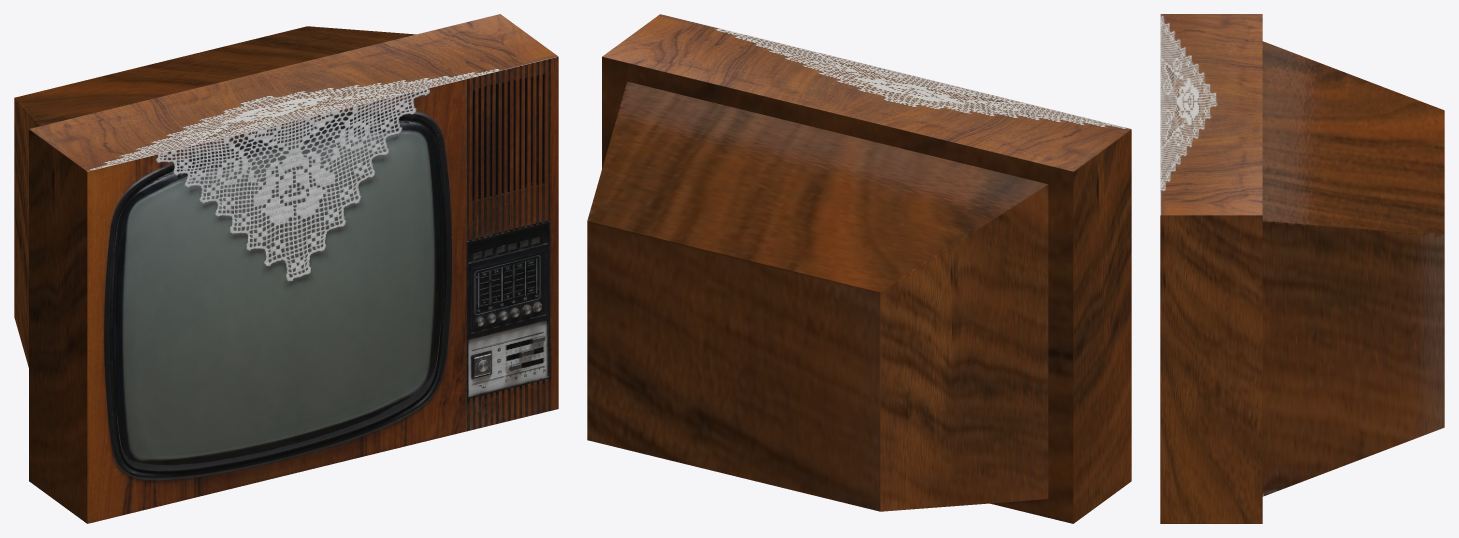
The model's file is old_tv_usssr.glb.
3 views of the same model, side by side, from view 1: azimuth 30°, elevation 25°; view 2: azimuth 150°, elevation 25°; view 3: azimuth 270°, elevation 25° (orthographic). The views are drawn at different scales.
Parts seen in each view (by area): view 1: TV; view 2: TV; view 3: TV.
Boxes of the visible parts, <box> form: TV: <box>14,14,558,523</box>; TV: <box>587,14,1131,523</box>; TV: <box>1160,14,1444,523</box>.
Bounding box in the file's own units: 2.8 × 2 × 1.67.
Materials: 3 (3 with a texture image).
